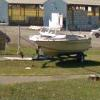Boat: (24, 22, 100, 68)
